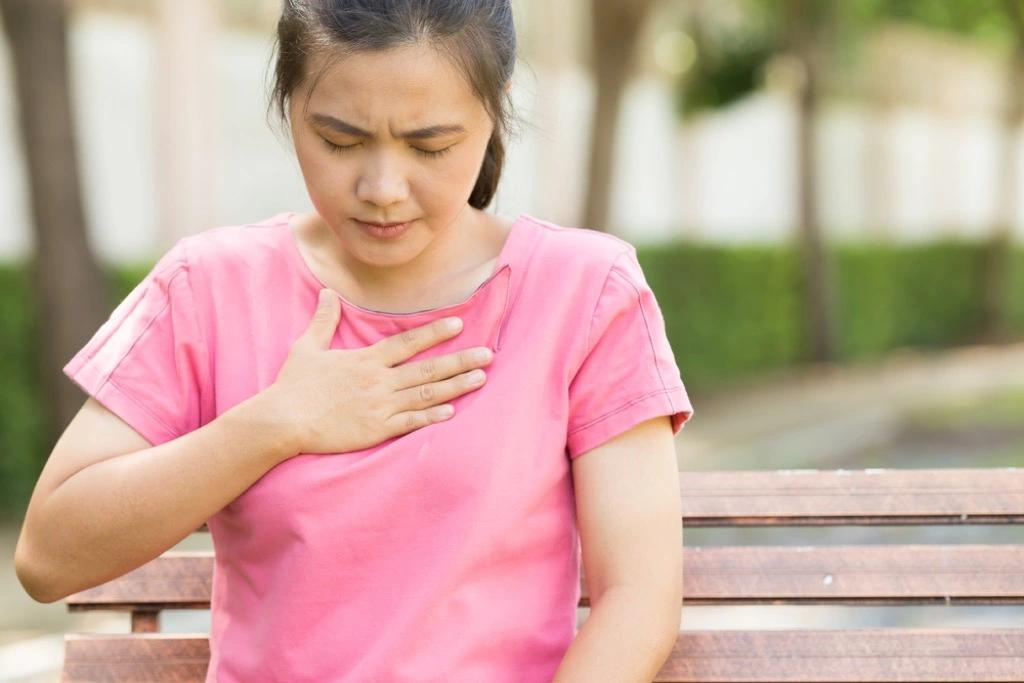pain: (299, 100, 474, 165)
